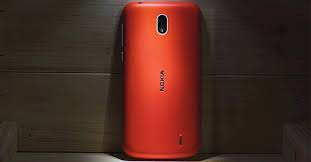nokia: (120, 1, 206, 158)
